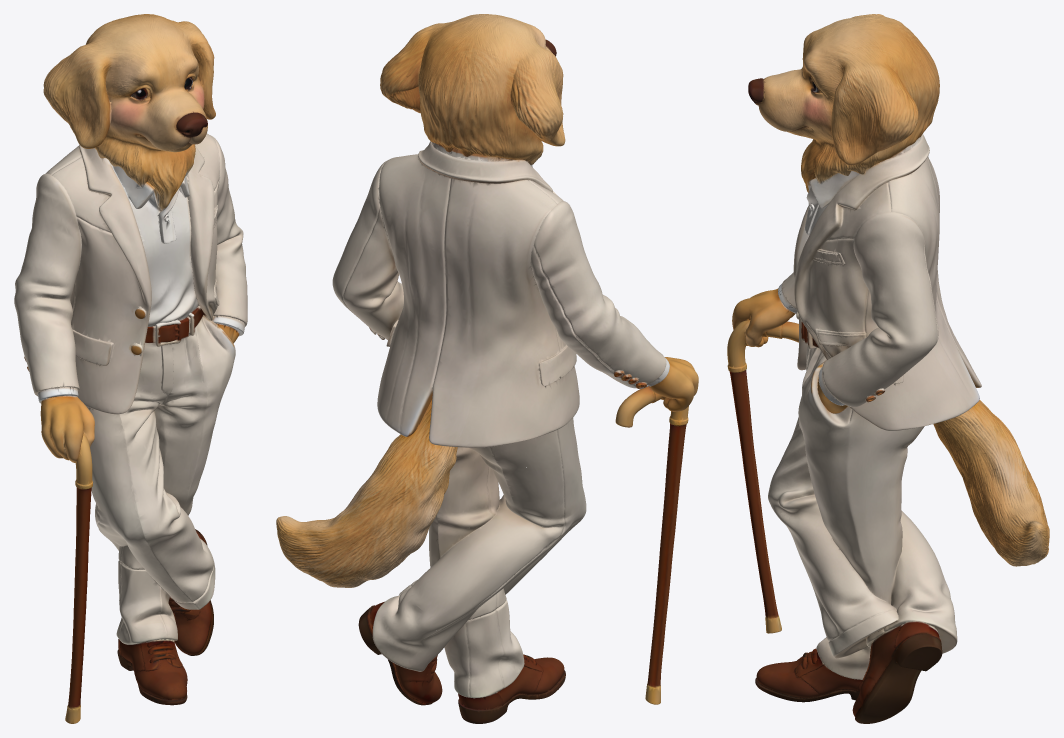
The model's file is 原皮狗.glb.
The picture shows the model from 3 angles, left to right: view 1: azimuth 30°, elevation 25°; view 2: azimuth 150°, elevation 25°; view 3: azimuth 270°, elevation 25°; orthographic projection. The views are drawn at different scales.
Parts seen in each view (by area): view 1: tripo_node_ddacdd0e-58ec-405d-826d-bef09a29970f; view 2: tripo_node_ddacdd0e-58ec-405d-826d-bef09a29970f; view 3: tripo_node_ddacdd0e-58ec-405d-826d-bef09a29970f.
Part boxes in pixels (x1,y1,x2,y2): tripo_node_ddacdd0e-58ec-405d-826d-bef09a29970f: [14, 14, 247, 723]; tripo_node_ddacdd0e-58ec-405d-826d-bef09a29970f: [276, 14, 698, 723]; tripo_node_ddacdd0e-58ec-405d-826d-bef09a29970f: [727, 14, 1049, 723].
Bounding box in the file's own units: 0.4179 × 0.98 × 0.4244.
1 material, 1 textured.
